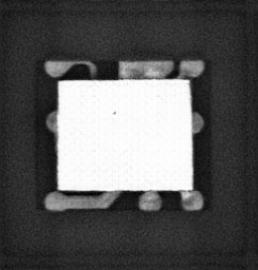DIE_INK: (110, 108, 119, 115)
